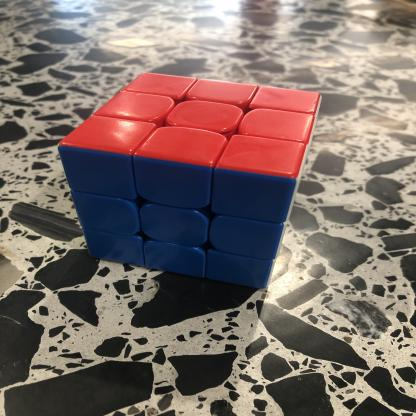SolvedCube: (43, 69, 346, 305)
